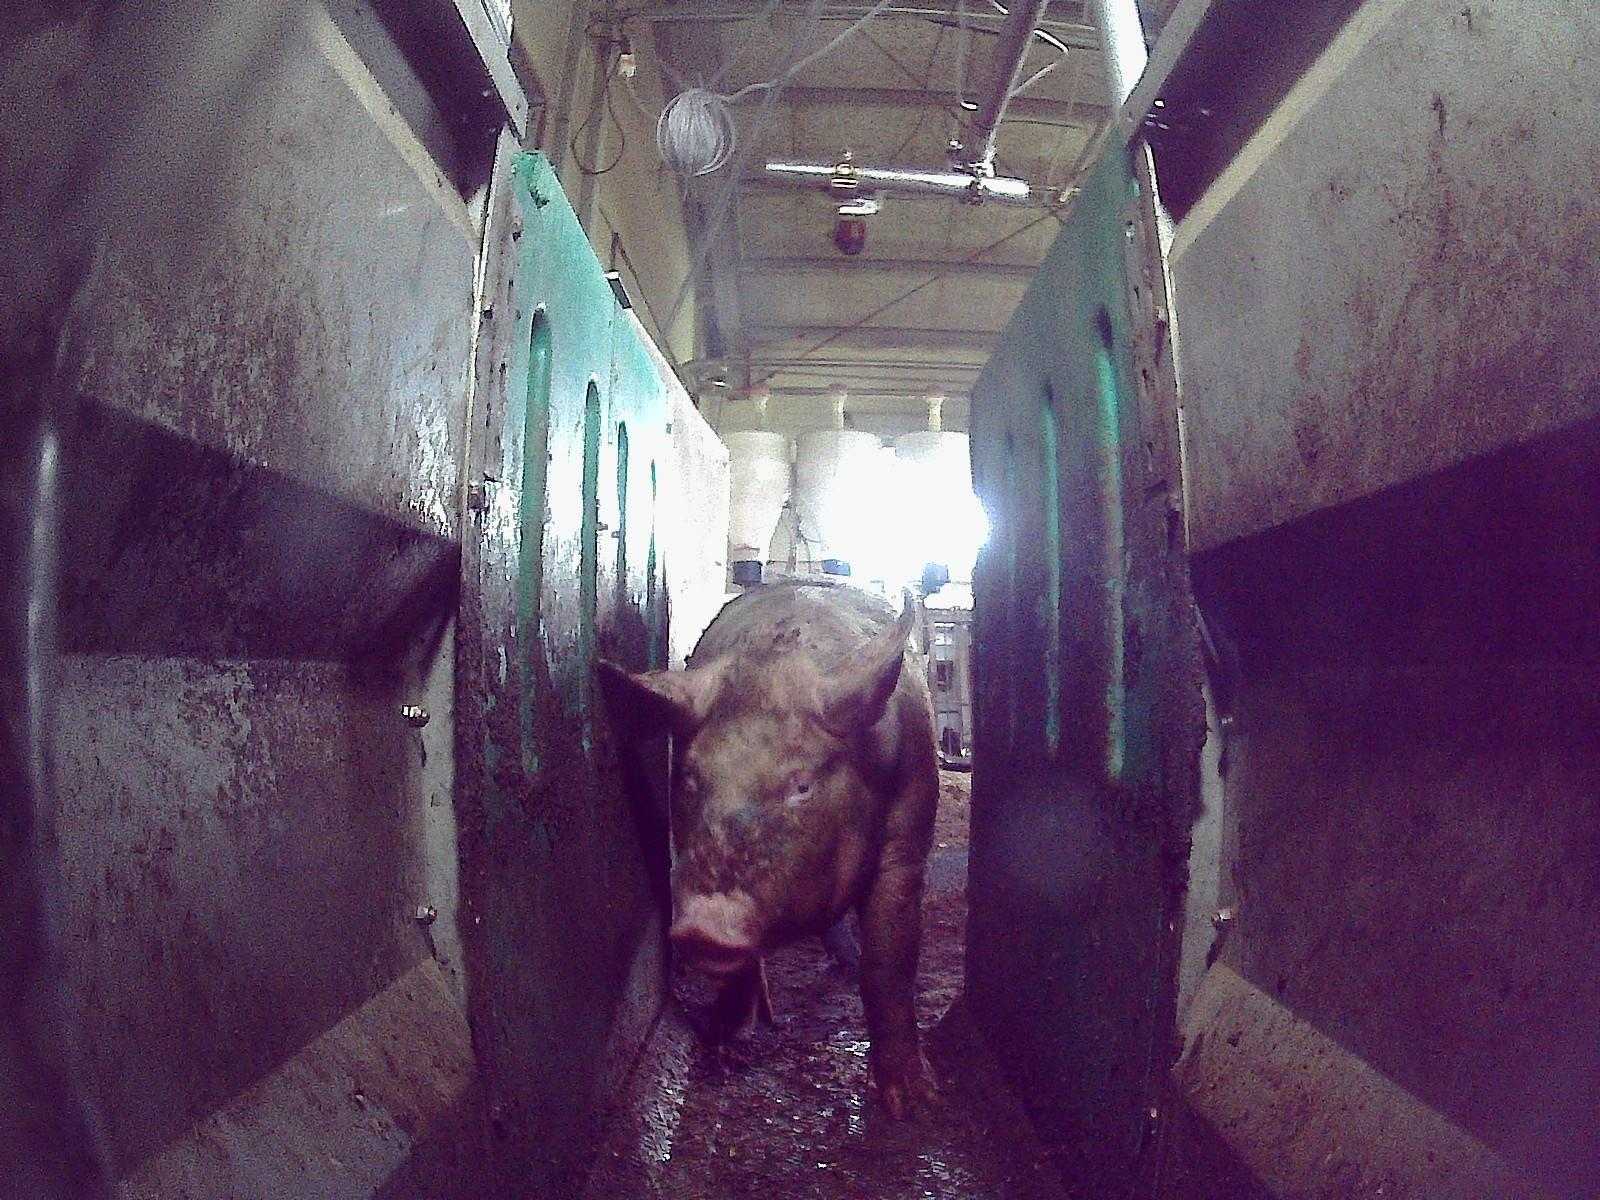Face: (670, 657, 864, 976)
